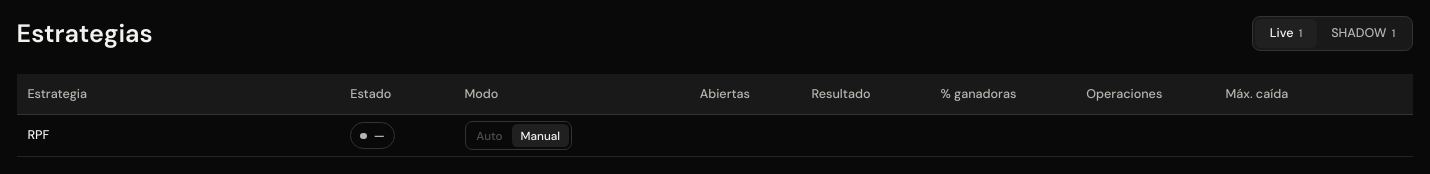
Test: RPF ocupa una fila en Producción y su monitor aparece en Hoy
The image size is (1430, 174).
Click the button "RPF" at (38, 135), box 27,127 -> 49,143
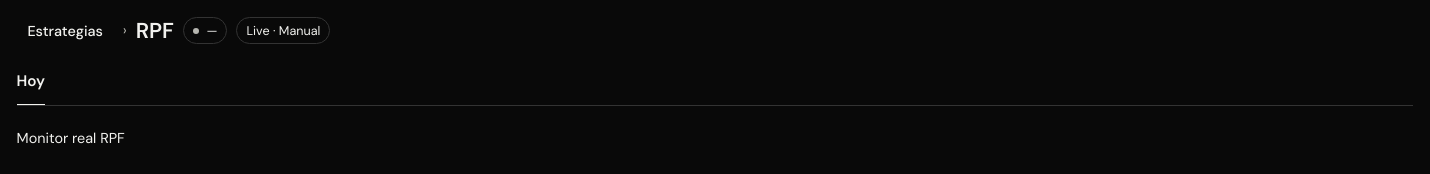
Result: the text "Monitor real RPF" is shown at 17,129 -> 125,147
